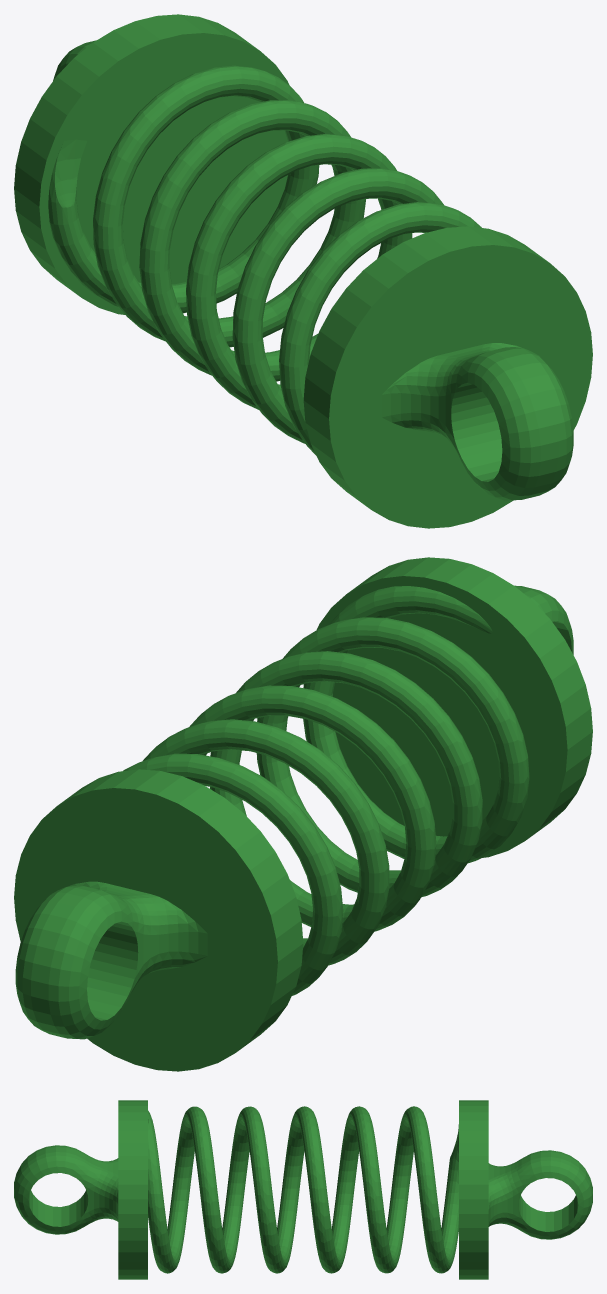
The model's file is Corpo3.obj.
3 views of the same model, one above another, from view 1: azimuth 30°, elevation 25°; view 2: azimuth 150°, elevation 25°; view 3: azimuth 270°, elevation 25° (orthographic). The views are drawn at different scales.
Size of the model in its own units: 30 by 29.9 by 96.9.
